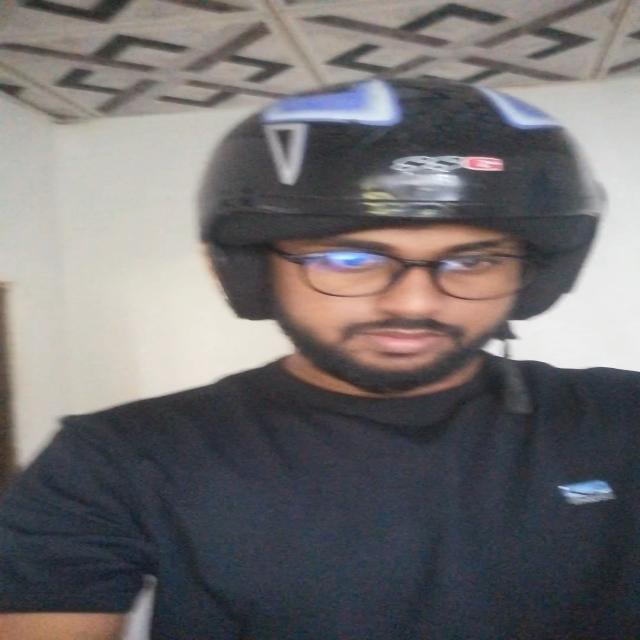Helmet_Wearer: (176, 69, 631, 445)
Person: (9, 83, 640, 640)
